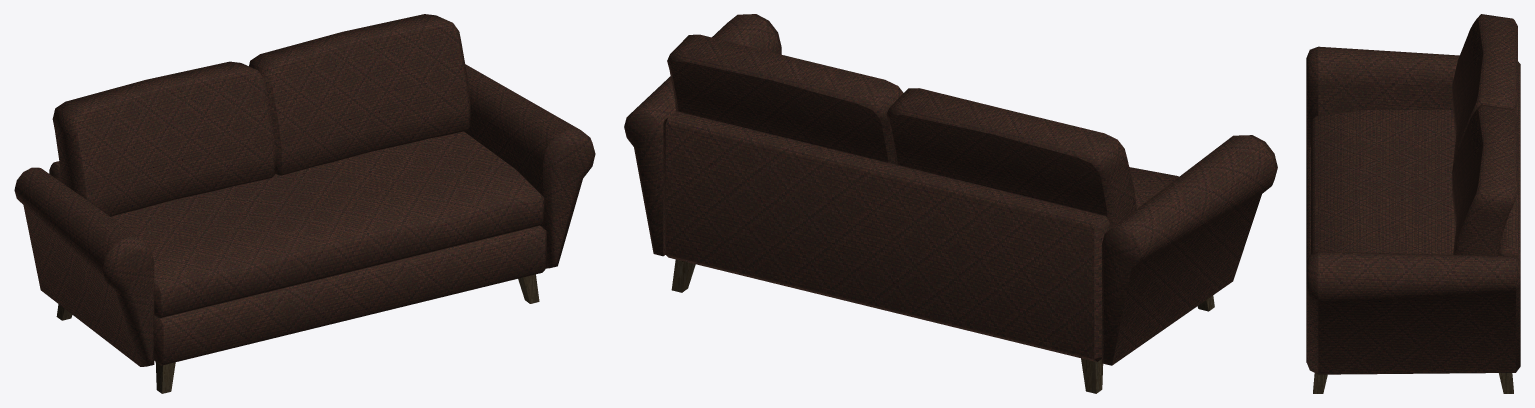
The model's file is sofa_5.glb.
3 renders of one model, left to right at view 1: azimuth 30°, elevation 25°; view 2: azimuth 150°, elevation 25°; view 3: azimuth 270°, elevation 25°, orthographic. The views are drawn at different scales.
Parts seen in each view (by area): view 1: sofa_5; view 2: sofa_5; view 3: sofa_5.
Boxes of the visible parts, x1,y1,x2,y2 form: sofa_5: (14, 14, 595, 393); sofa_5: (624, 14, 1277, 393); sofa_5: (1306, 14, 1520, 393).
Size of the model in its own units: 2.49 by 1.07 by 0.99.
Materials: 2 (2 with a texture image).
